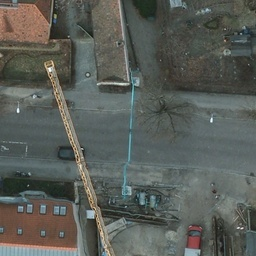car: (55, 144, 85, 161), (185, 223, 203, 251)
